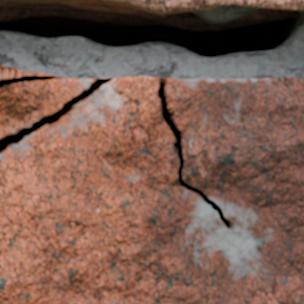brick: (0, 77, 303, 303), (0, 78, 94, 136), (40, 0, 303, 14), (0, 66, 45, 78)
crack: (0, 0, 303, 57), (157, 77, 233, 229), (0, 77, 112, 153), (0, 75, 61, 87)
